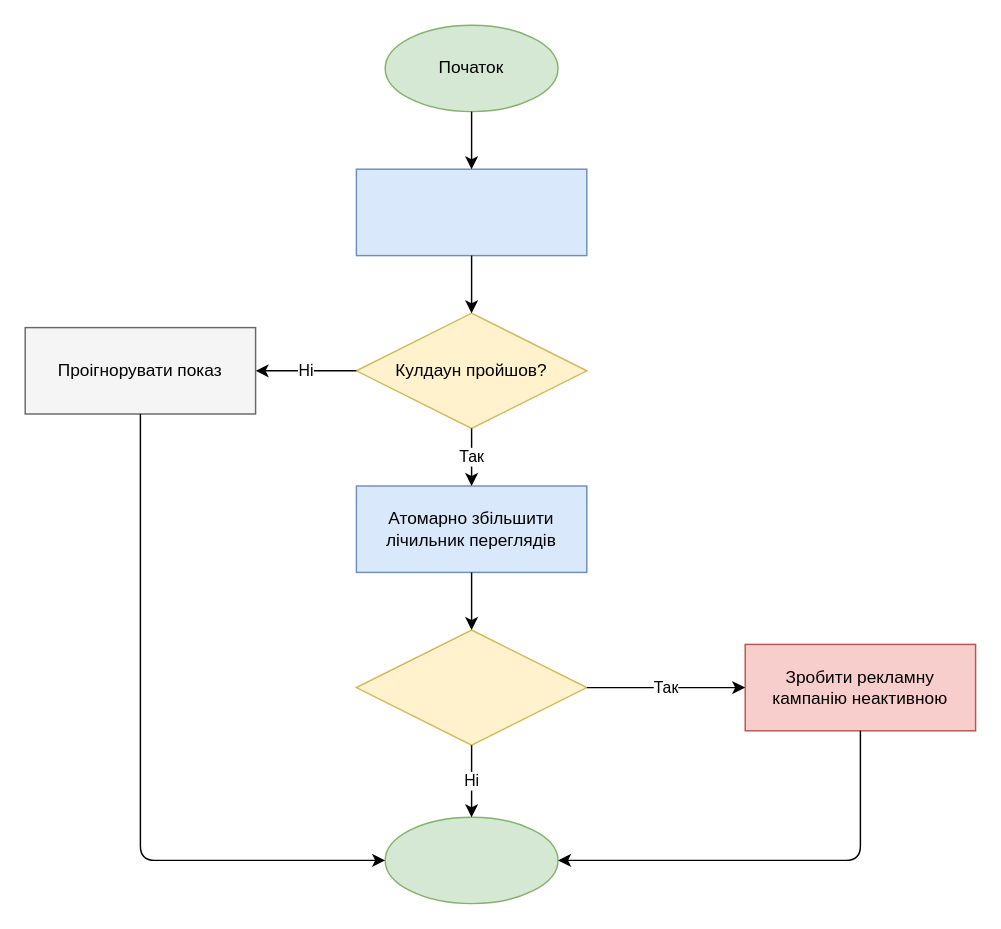
The diagram is 1001 pixels wide and 929 high, and some of its shapes have lost their labels. Here are the shapes that lost their labels. From the top down, the centre of each, then its label:
At (x=471, y=212): "Користувач переглядає нативну рекламу".
At (x=471, y=687): "Ліміт показів вичерпано?".
At (x=471, y=860): "Кінець".
